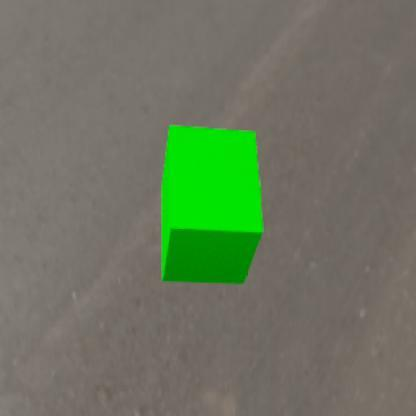green_cube: (161, 124, 263, 284)
